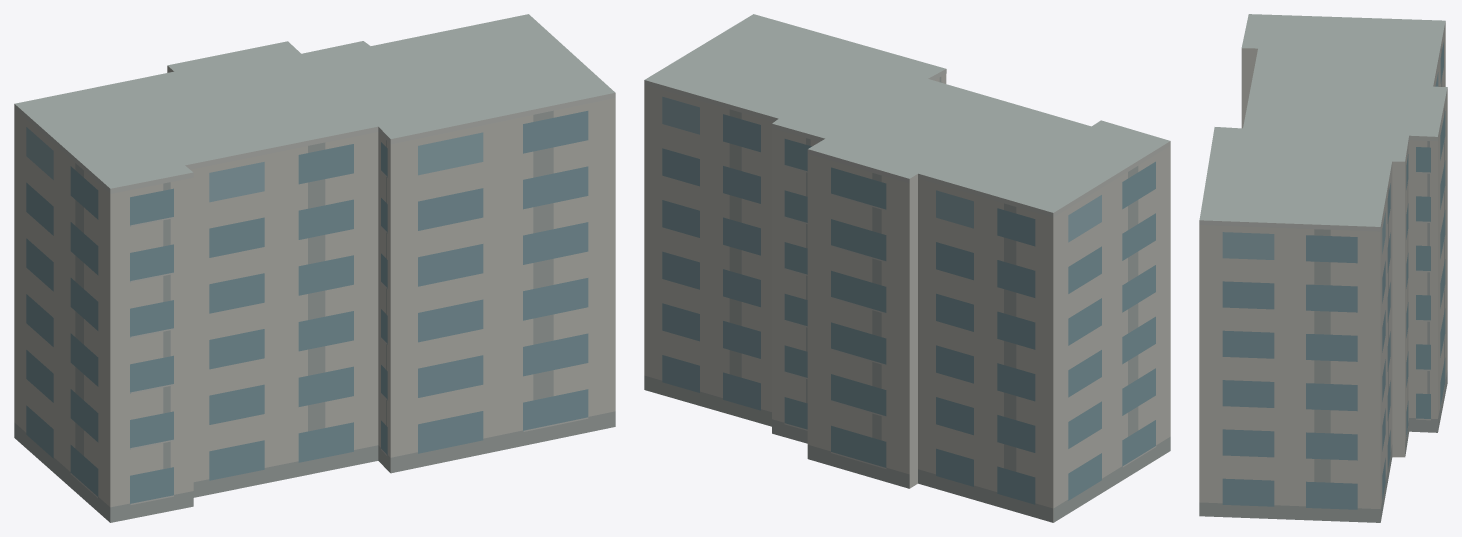
Rendered from survey-upis-32976310.glb.
3 views of the same model, side by side, from view 1: azimuth 30°, elevation 25°; view 2: azimuth 150°, elevation 25°; view 3: azimuth 270°, elevation 25° (orthographic). The views are drawn at different scales.
Visible parts, largest first — view 1: survey-upis-32976310.tmp; view 2: survey-upis-32976310.tmp; view 3: survey-upis-32976310.tmp.
Part boxes in pixels (x1,y1,x2,y2): survey-upis-32976310.tmp: (14,14,615,522); survey-upis-32976310.tmp: (644,14,1170,522); survey-upis-32976310.tmp: (1199,14,1447,522).
Bounding box in the file's own units: 24.24 × 15.7 × 11.94.
